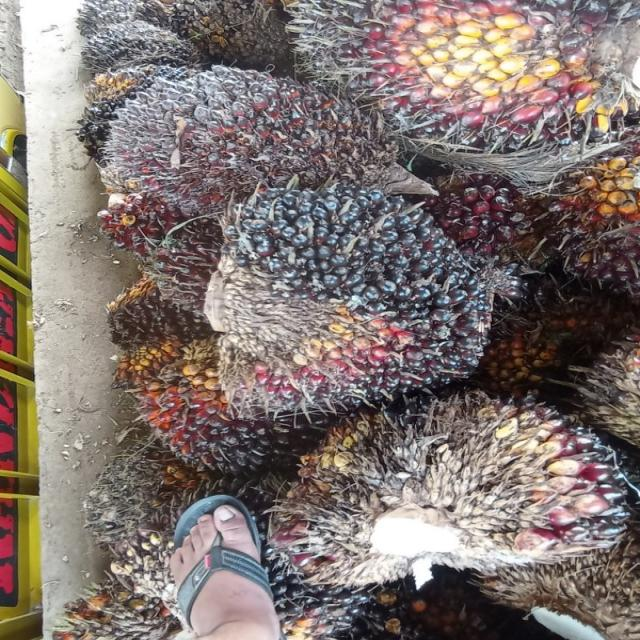fraksi 00: (221, 189, 497, 416), (282, 0, 640, 154)
fraksi 1: (94, 64, 401, 219)
